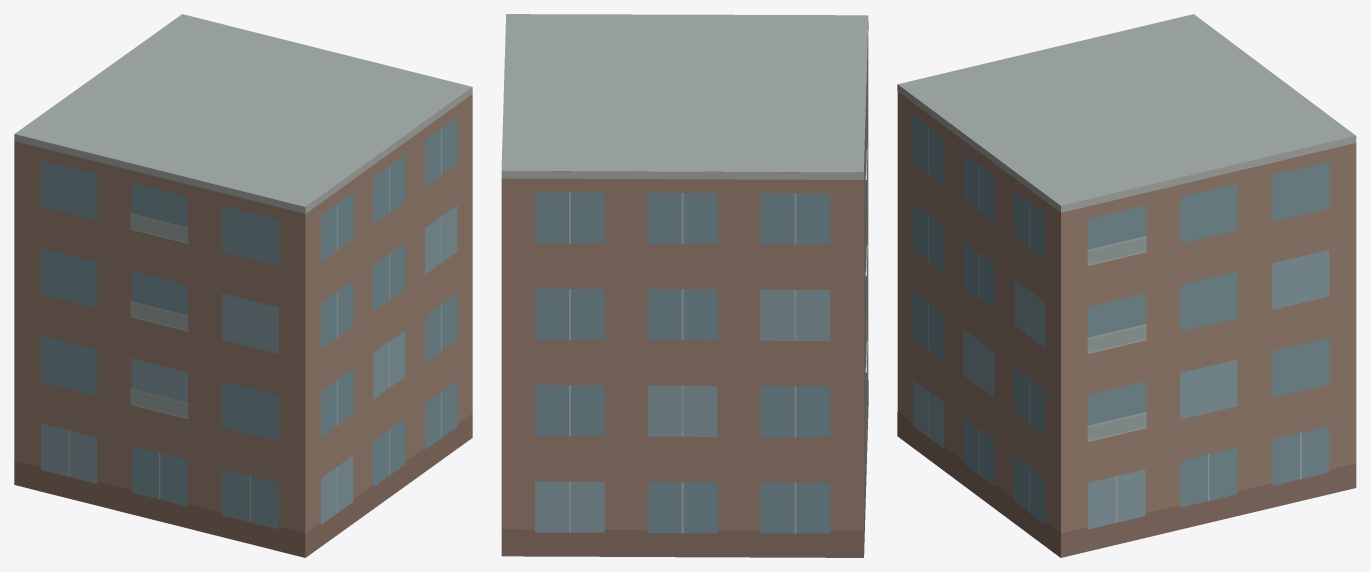
File: survey-upis-32696153.glb
3 views of the same model, side by side, from view 1: azimuth 30°, elevation 25°; view 2: azimuth 150°, elevation 25°; view 3: azimuth 270°, elevation 25° (orthographic). The views are drawn at different scales.
Visible parts, largest first — view 1: survey-upis-32696153.tmp; view 2: survey-upis-32696153.tmp; view 3: survey-upis-32696153.tmp.
Part boxes in pixels (bbox=[...]): survey-upis-32696153.tmp: bbox=[14, 14, 472, 557]; survey-upis-32696153.tmp: bbox=[501, 14, 868, 557]; survey-upis-32696153.tmp: bbox=[897, 14, 1356, 557].
Size of the model in its own units: 14.39 by 12.3 by 14.54.
